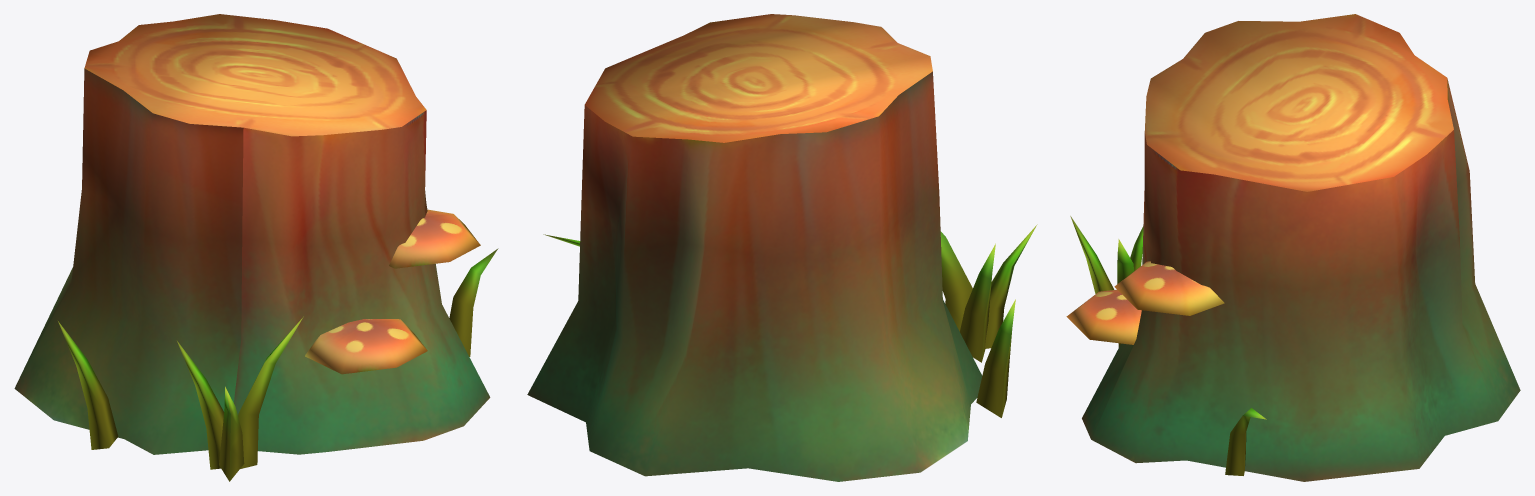
Rendered from Tree_Cut.FBX.
3 views of the same model, side by side, from view 1: azimuth 30°, elevation 25°; view 2: azimuth 150°, elevation 25°; view 3: azimuth 270°, elevation 25° (orthographic). The views are drawn at different scales.
Parts seen in each view (by area): view 1: Tree_Cut; view 2: Tree_Cut; view 3: Tree_Cut.
Part boxes in pixels (x1,y1,x2,y2): Tree_Cut: [14, 14, 498, 481]; Tree_Cut: [527, 14, 1037, 481]; Tree_Cut: [1066, 14, 1520, 481].
Size of the model in its own units: 51.61 by 35.51 by 46.53.
